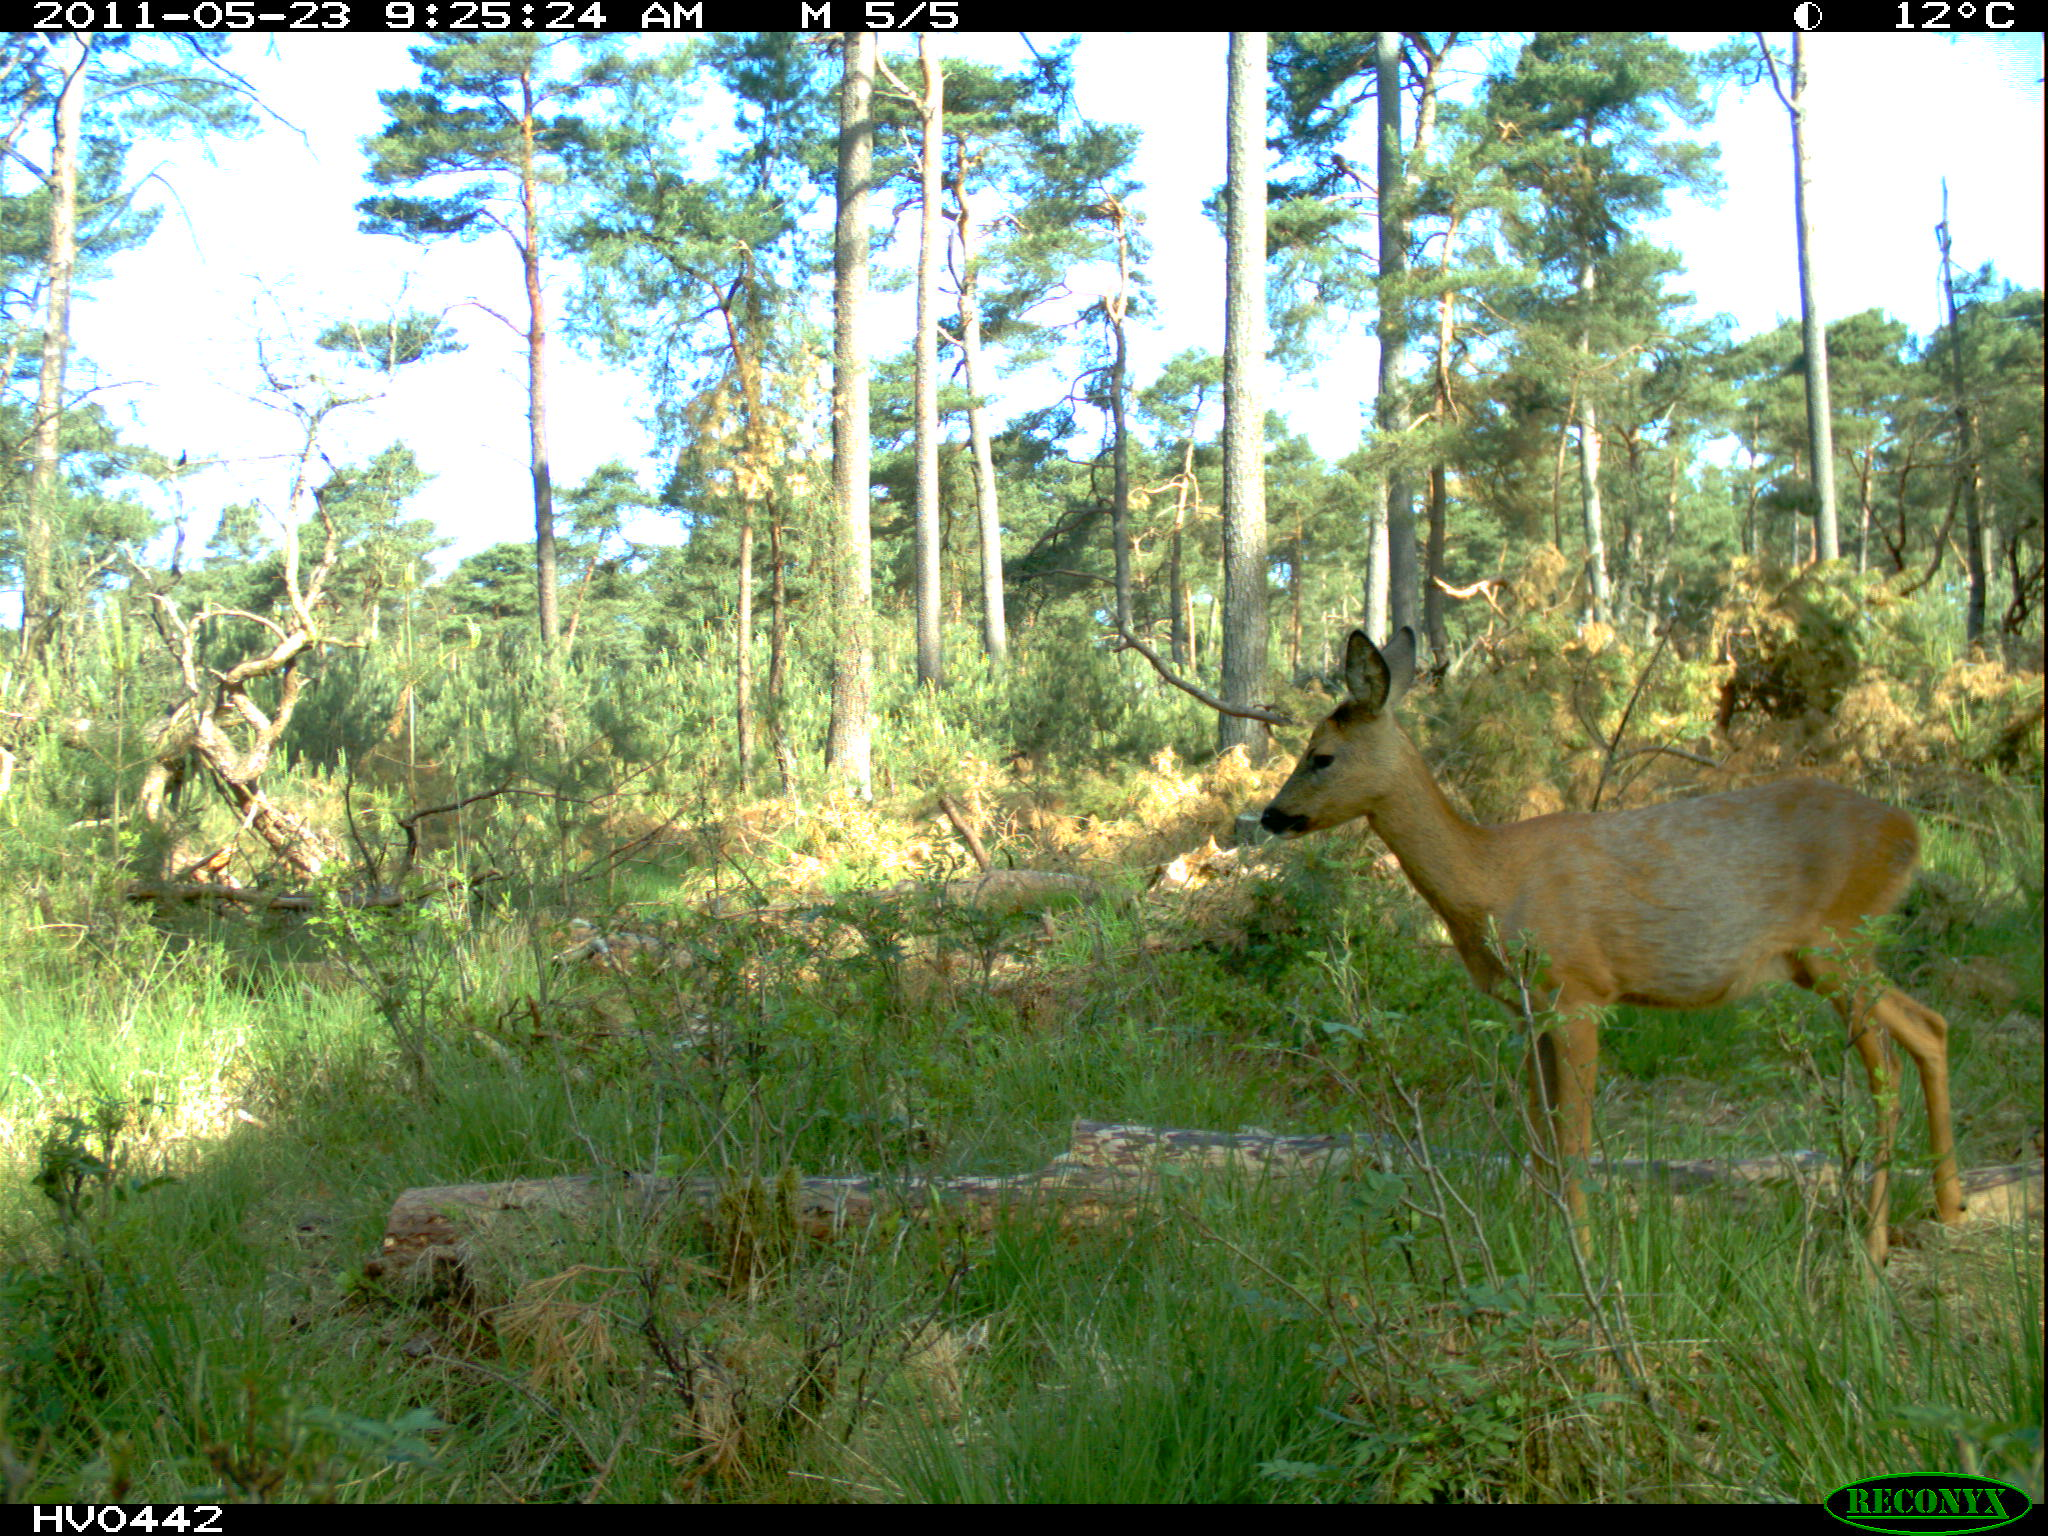Deer: (1253, 620, 1975, 1279)
